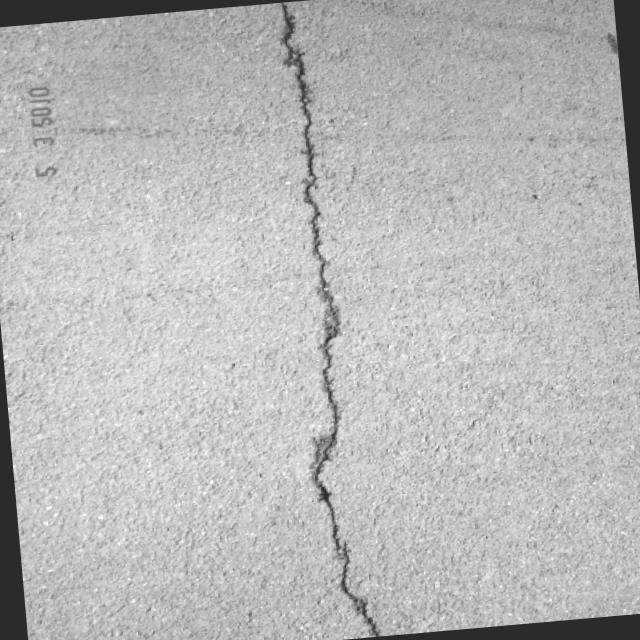crack: (258, 0, 386, 640)
